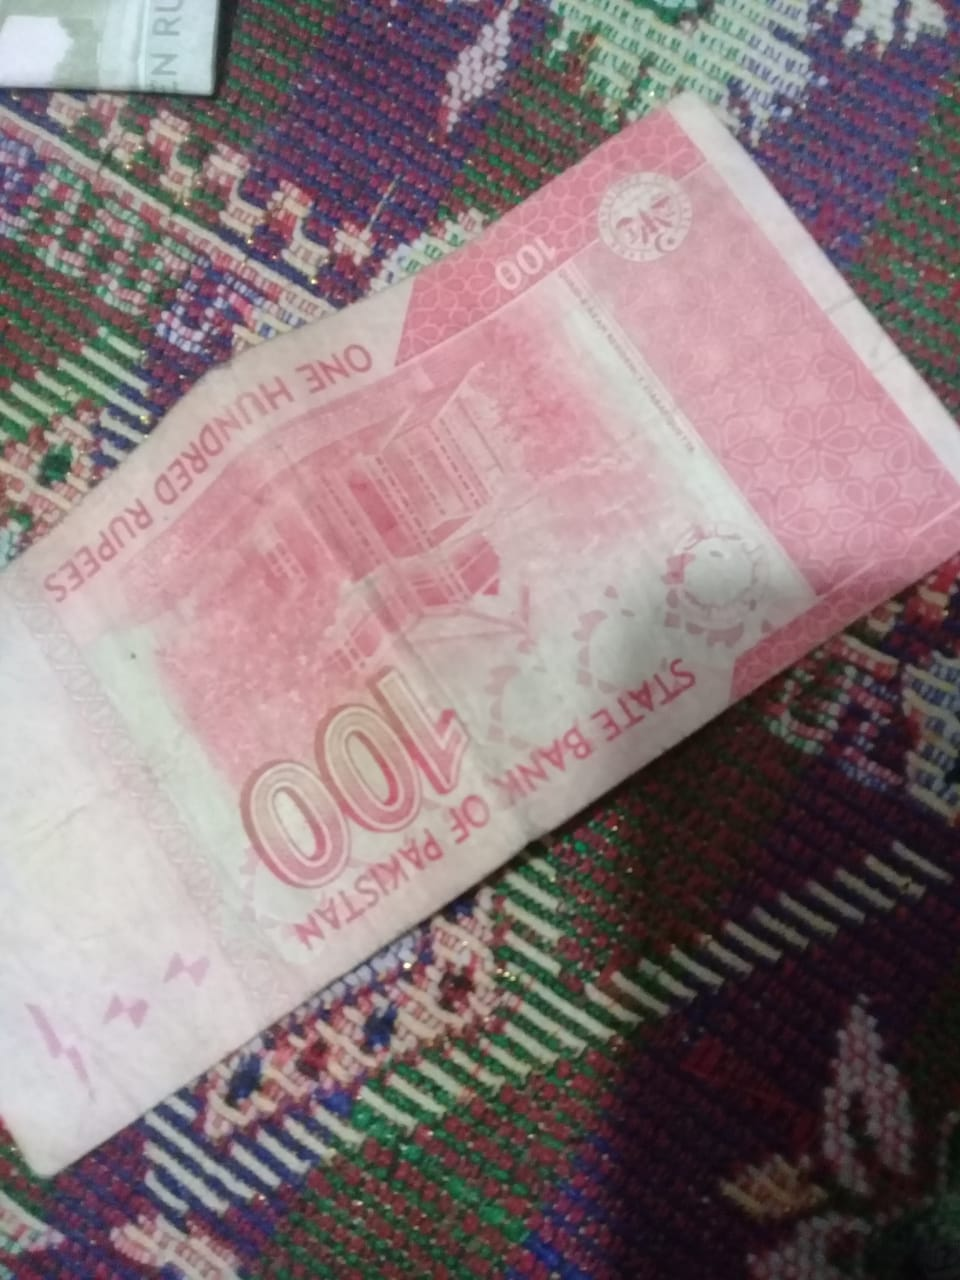100 rupee: (20, 63, 924, 1275)
